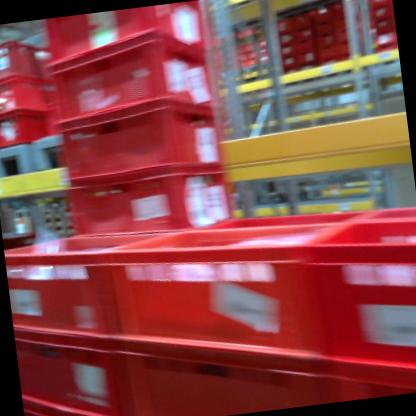small_load_carrier: (99, 174, 357, 380), (3, 197, 184, 349), (287, 203, 416, 390), (113, 308, 335, 416), (46, 23, 221, 140), (52, 155, 244, 258), (6, 223, 145, 361), (54, 85, 227, 192), (14, 317, 146, 416), (43, 0, 208, 78), (201, 192, 375, 263), (324, 345, 416, 399), (25, 380, 146, 416), (0, 107, 53, 157), (0, 68, 48, 117), (0, 33, 45, 85), (358, 194, 416, 230)
